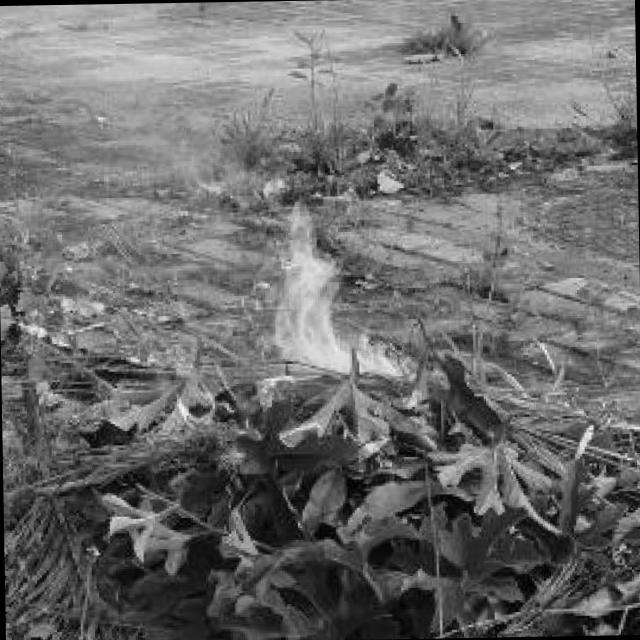fire: (166, 360, 220, 430)
smoke: (262, 202, 378, 382)
